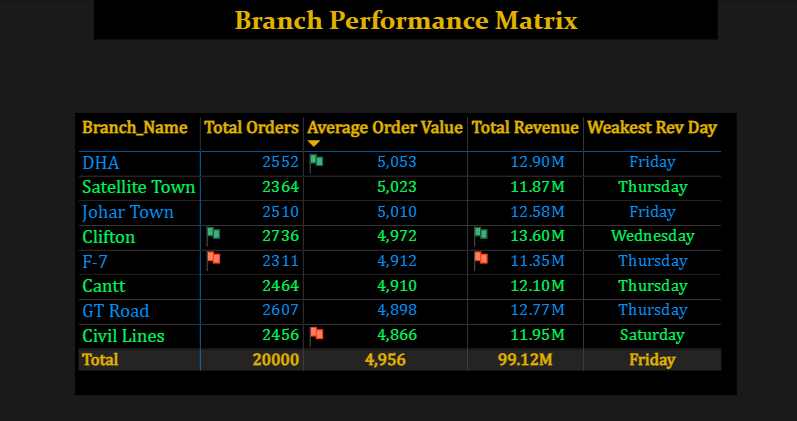

The page's visual inventory and layout, read from the dashboard file:
{"tool":"powerbi","page":{"name":"Branch Performance Matrix","canvas":[1280,720],"ordinal":1},"visuals":[{"type":"textbox","box":[198.4,0,884.3,55.7],"z":0},{"type":"pivotTable","fields":{"Rows":["branches.Branch_Name"],"Values":["order_details.Total Orders","menu_items.Average Order Value","menu_items.Total Revenue","menu_items.Weakest Rev Day"]},"box":[171.5,160.2,938.3,399.7],"z":2000}]}

Visuals, with their boxes on the page's 1280x720 design canvas (x1, y1, x2, y2). These are canvas units, not pixel positions in the 797x421 screenshot, which may show the page scaled, cropped or inside an application window:
textbox: box(198, 0, 1083, 56)
pivotTable - branches.Branch_Name x order_details.Total Orders: box(172, 160, 1110, 560)
